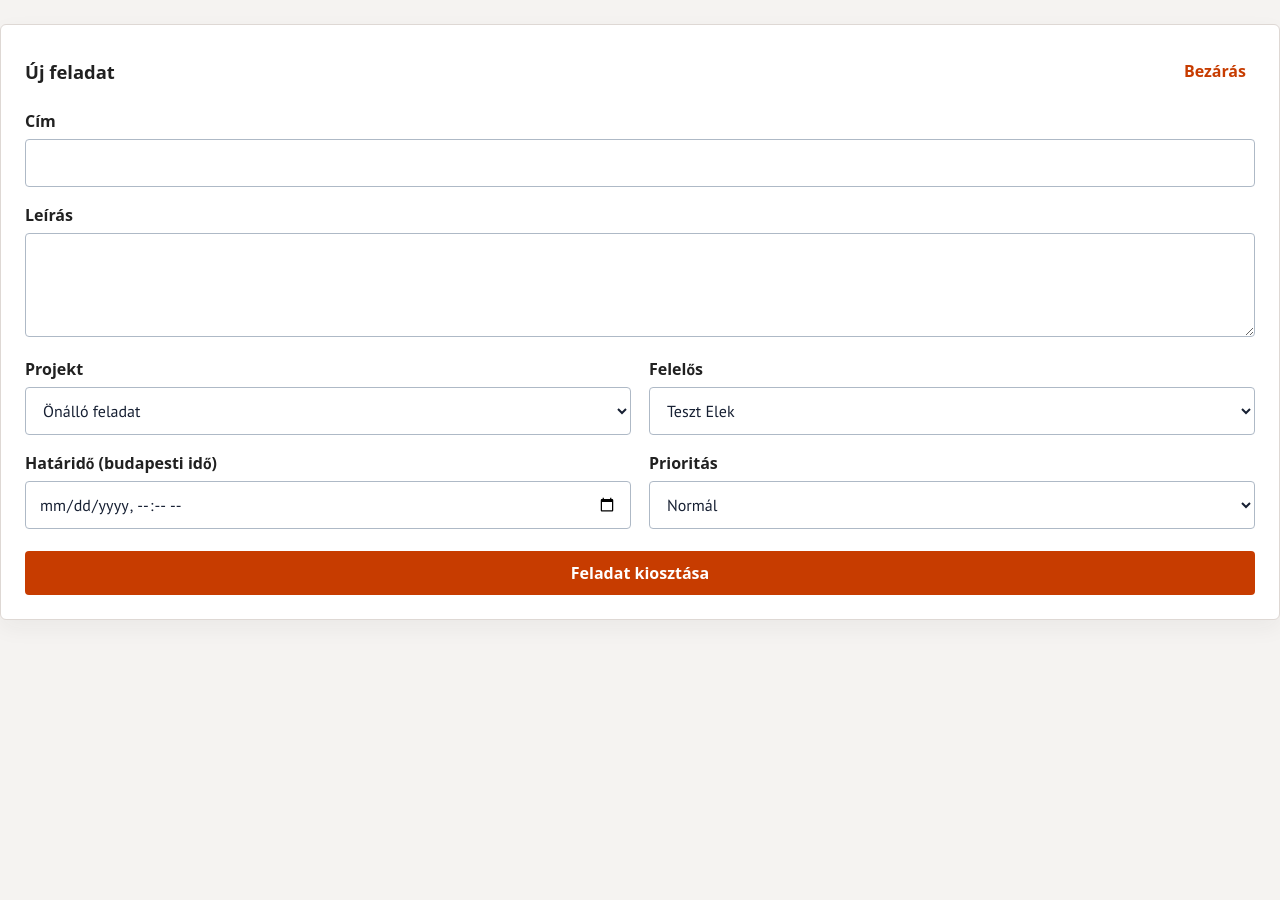
Test: létrehozó űrlapok › kritikus feladatot indoklás nélkül nem küld el
In the field labelled "Cím": (640, 163) [25,139,1255,187], type "Kritikus közlemény"
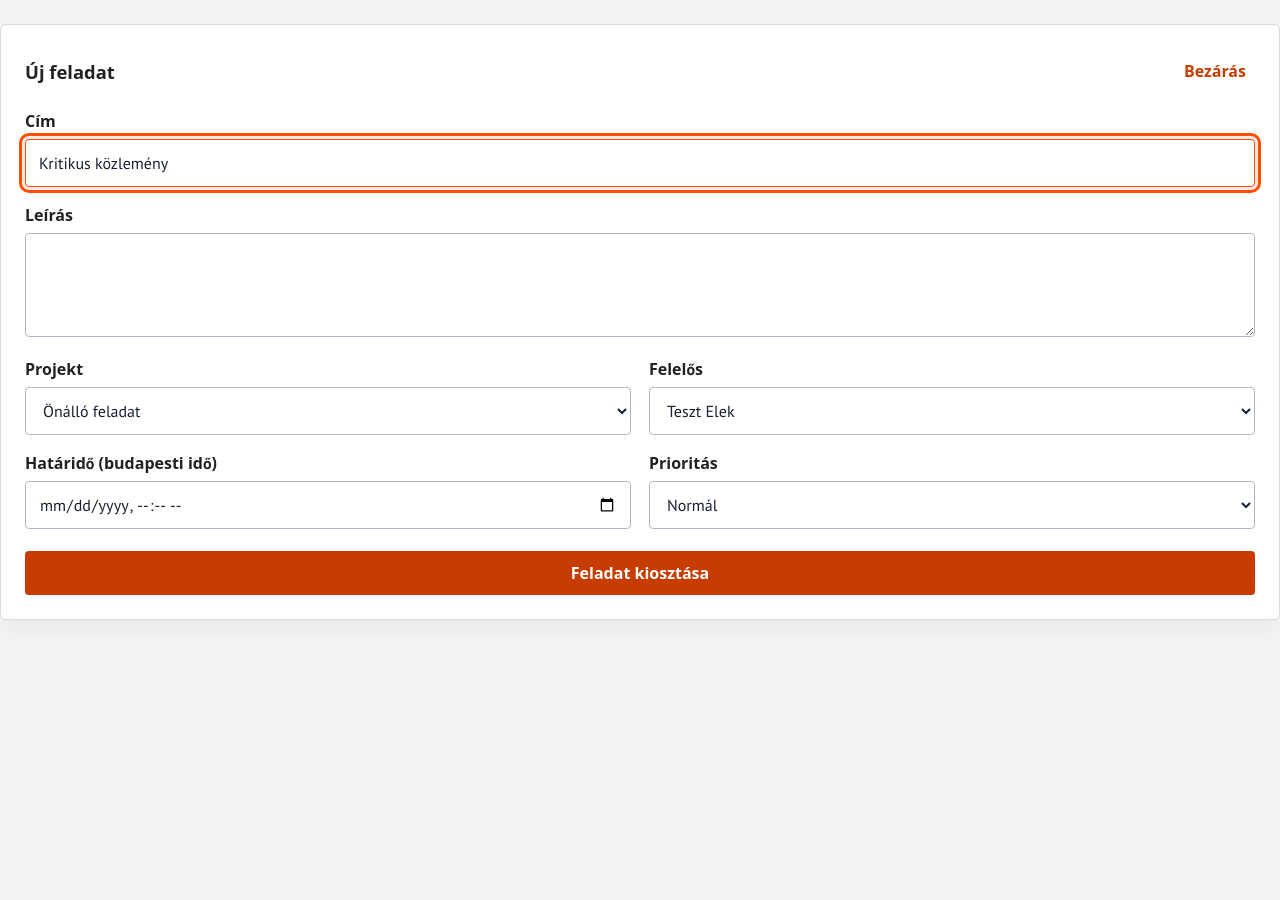
Select "Kritikus" in the dropdown labelled "Prioritás": (952, 505) [649,481,1255,529]
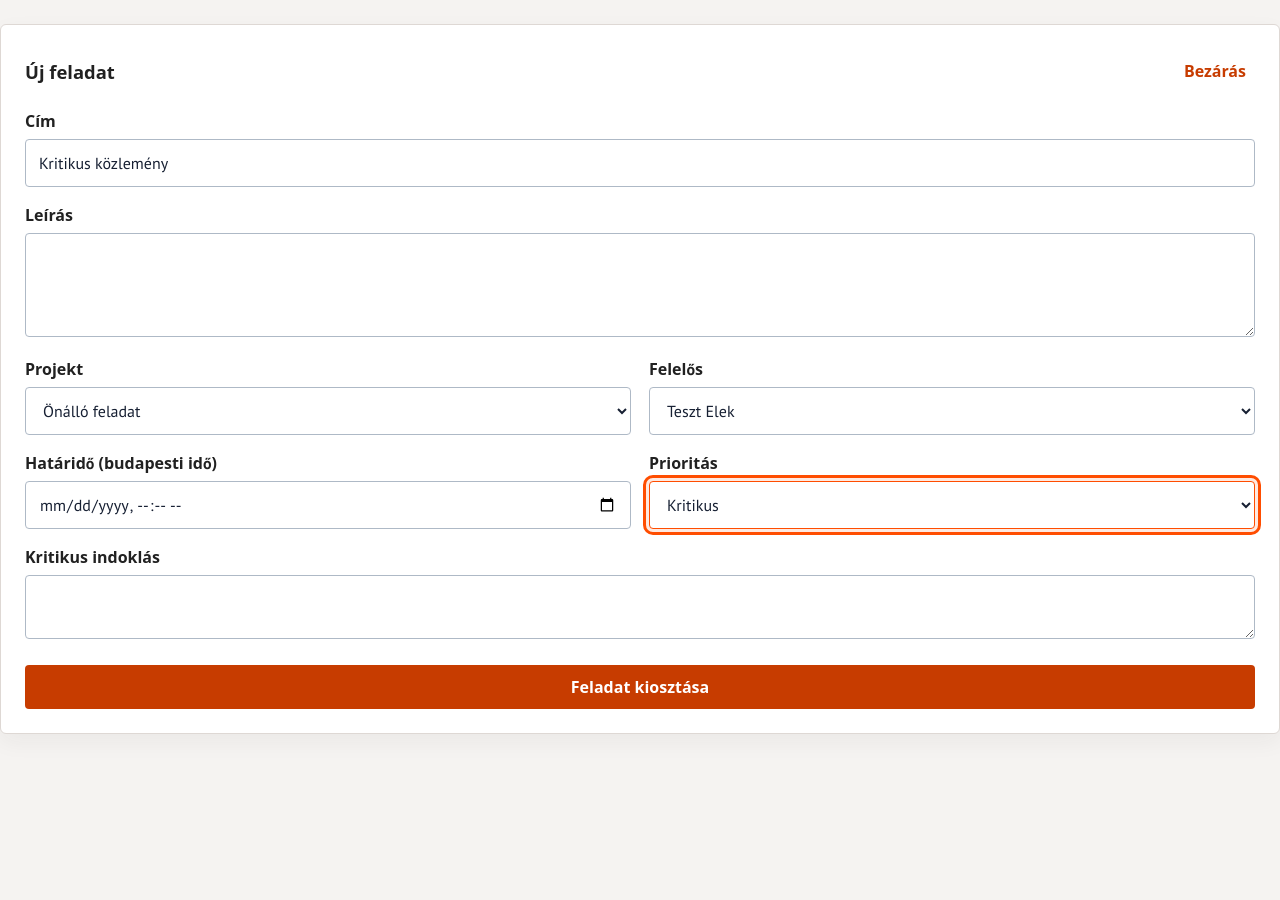
Click the button "Feladat kiosztása": (640, 687) [25,665,1255,709]
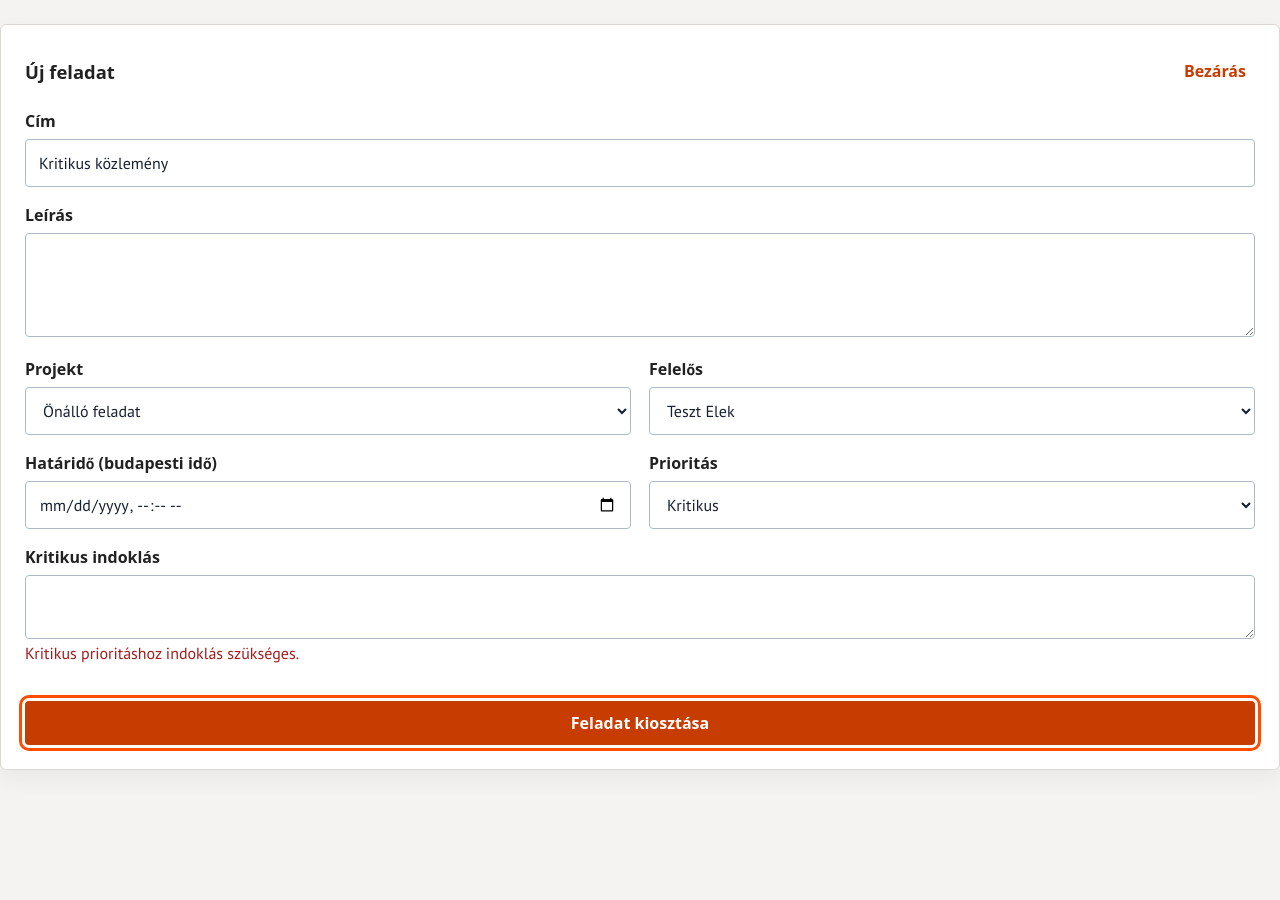
Check: the message shows "indoklás szükséges", box [25,643,299,663]
